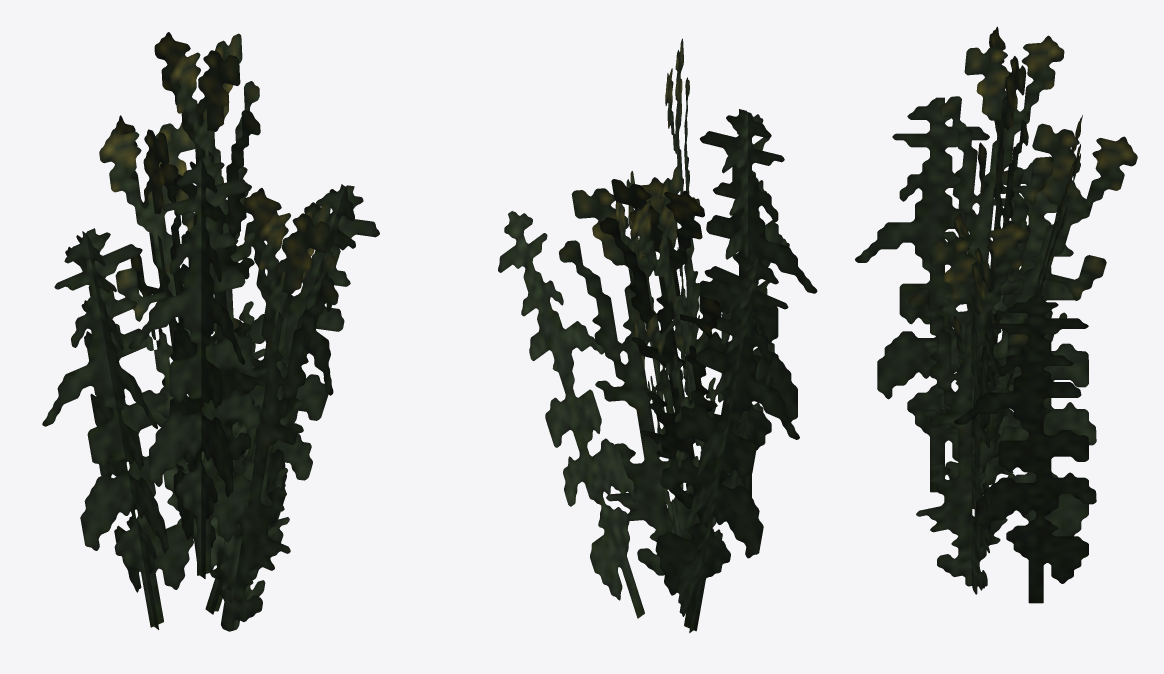
File: SM_EC_Plant_Bush_11.fbx
3 views of the same model, side by side, from view 1: azimuth 30°, elevation 25°; view 2: azimuth 150°, elevation 25°; view 3: azimuth 270°, elevation 25° (orthographic). The views are drawn at different scales.
Visible parts, largest first — view 1: SM_EC_Plant_Bush_11; view 2: SM_EC_Plant_Bush_11; view 3: SM_EC_Plant_Bush_11.
Boxes of the visible parts, box(x1,y1,x2,y2) form: SM_EC_Plant_Bush_11: box(42, 32, 379, 631); SM_EC_Plant_Bush_11: box(498, 38, 817, 633); SM_EC_Plant_Bush_11: box(855, 26, 1137, 603).
Bounding box in the file's own units: 0.9122 × 0.6126 × 1.34.
